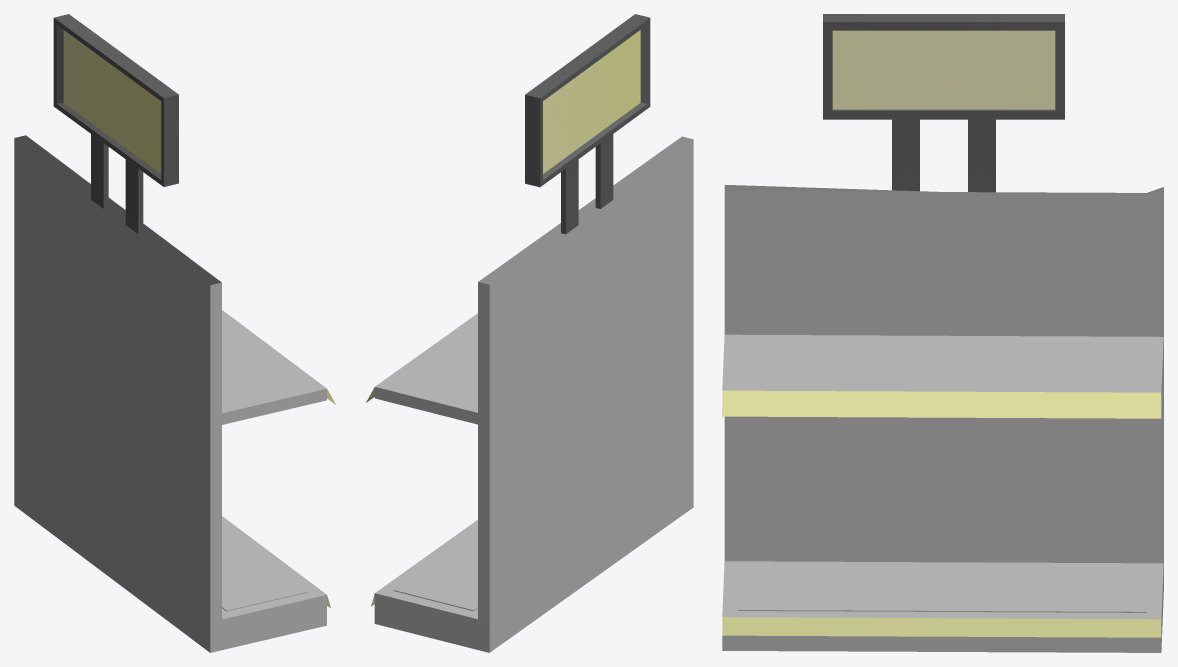
File: SM_Shelf.fbx
3 renders of one model, left to right at view 1: azimuth 30°, elevation 25°; view 2: azimuth 150°, elevation 25°; view 3: azimuth 270°, elevation 25°, orthographic. The views are drawn at different scales.
Parts seen in each view (by area): view 1: SM_Beverage_Shelf; view 2: SM_Beverage_Shelf; view 3: SM_Beverage_Shelf.
Part boxes in pixels (x1,y1,x2,y2): SM_Beverage_Shelf: (14,14,335,652); SM_Beverage_Shelf: (366,14,693,652); SM_Beverage_Shelf: (722,14,1163,652).
Size of the model in its own units: 95.09 by 363 by 253.
